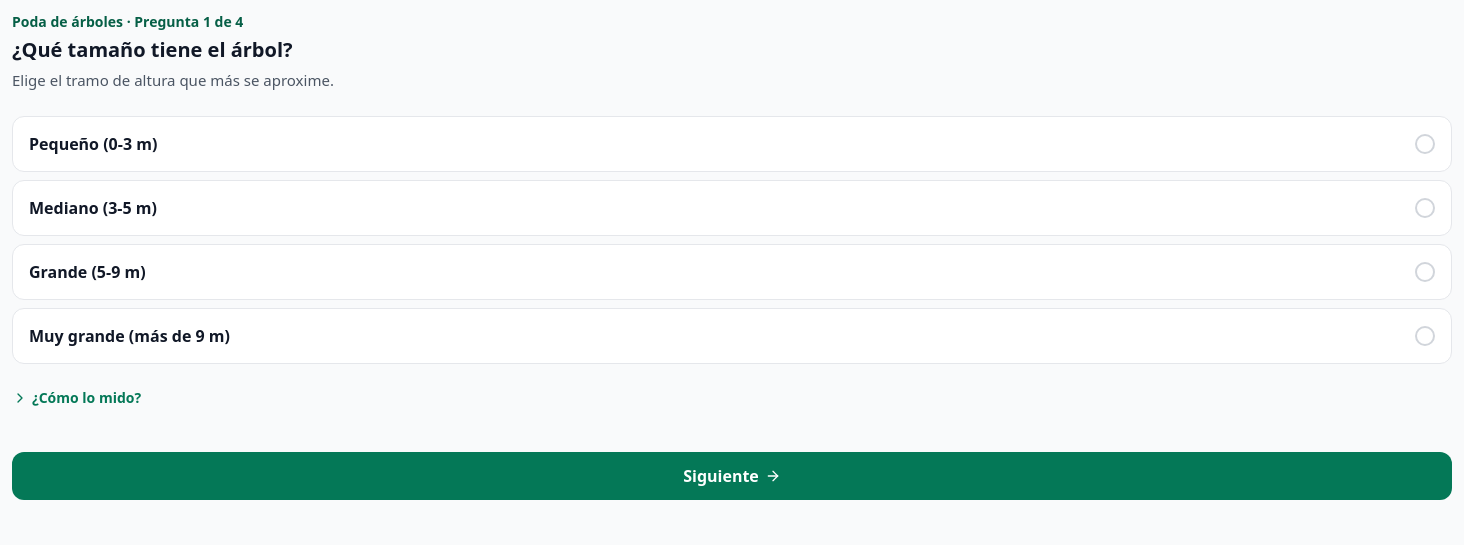
errores (T-07) › una pregunta de opciones sin contestar dice qué hacer y lleva el foco al grupo
Click the button "Siguiente": x=732, y=476 x1=12 y1=452 x2=1452 y2=500
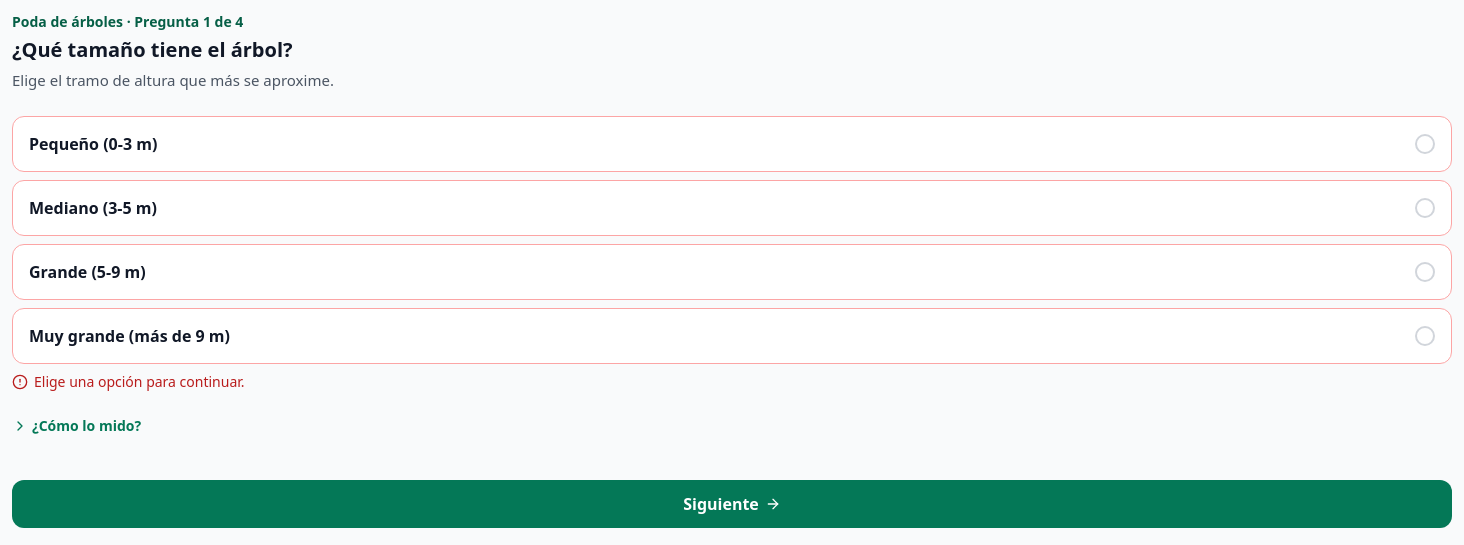
Check: the text "Elige una opción para continuar." is shown, box x1=34 y1=372 x2=244 y2=392
